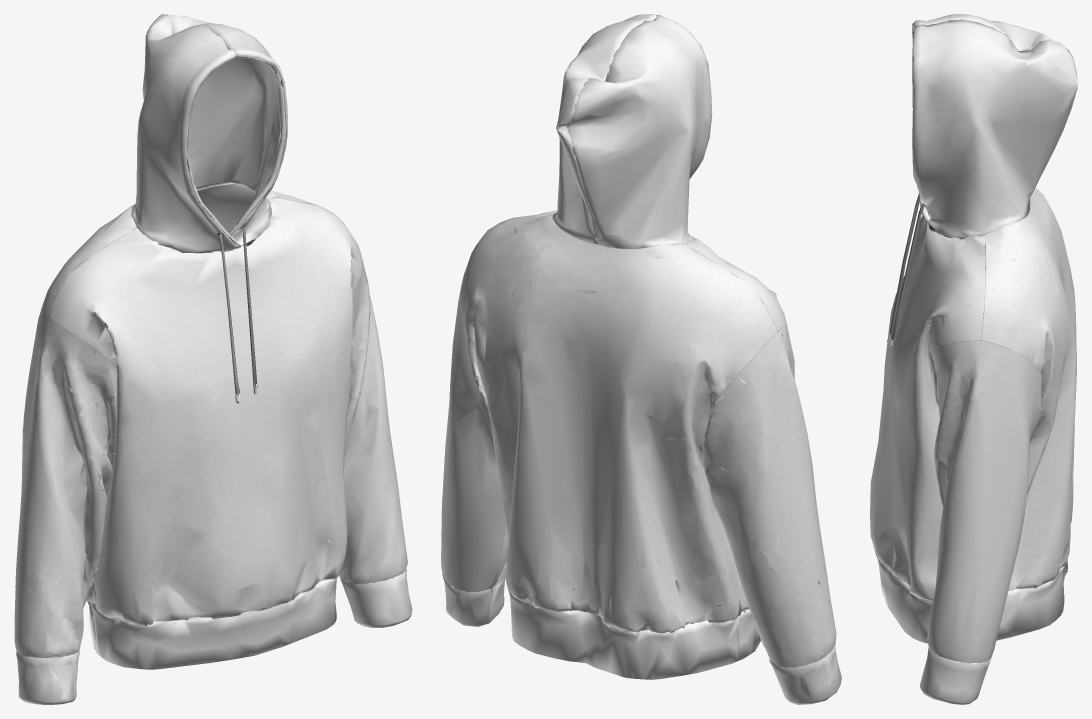
Rendered from hoodie.glb.
3 renders of one model, left to right at view 1: azimuth 30°, elevation 25°; view 2: azimuth 150°, elevation 25°; view 3: azimuth 270°, elevation 25°, orthographic. The views are drawn at different scales.
Parts seen in each view (by area): view 1: Object_2; view 2: Object_2; view 3: Object_2.
Part boxes in pixels (left/top/right/bottom): Object_2: left=14, top=14, right=412, bottom=704; Object_2: left=441, top=14, right=841, bottom=704; Object_2: left=870, top=14, right=1077, bottom=704.
Size of the model in its own units: 0.6058 by 0.9486 by 0.2961.
Materials: 1 (1 with a texture image).
